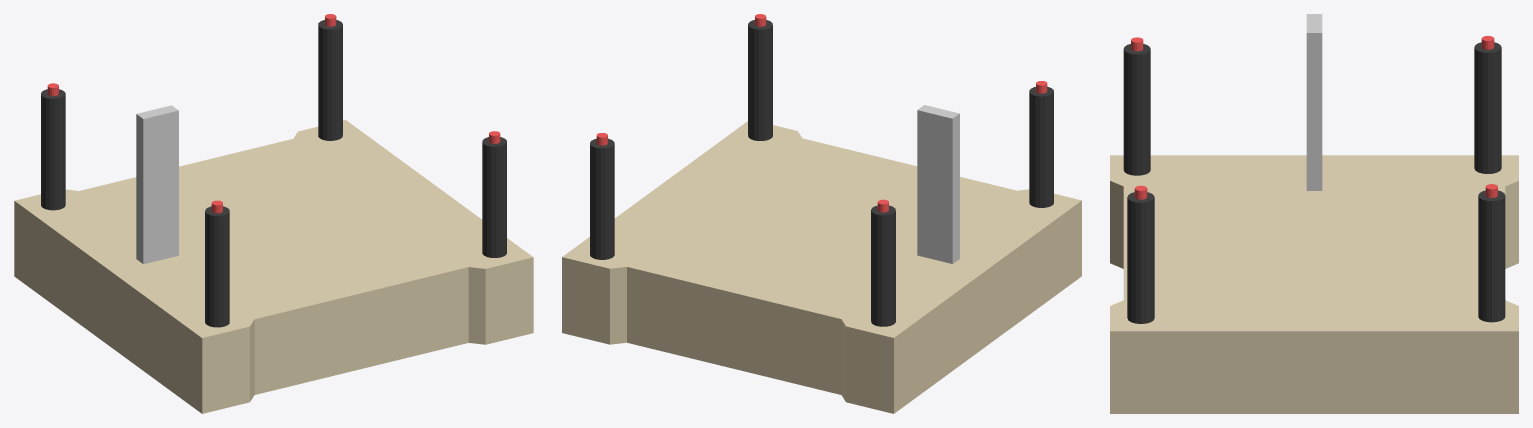
The model's file is simulateur.fbx.
3 renders of one model, left to right at view 1: azimuth 30°, elevation 25°; view 2: azimuth 150°, elevation 25°; view 3: azimuth 270°, elevation 25°, orthographic. The views are drawn at different scales.
Parts seen in each view (by area): view 1: Plane.001, Plane.002, Circle.006, Circle.002, Circle.004, Circle; view 2: Plane.001, Plane.002, Circle.004, Circle.002, Circle, Circle.006; view 3: Plane.001, Circle.006, Circle, Circle.004, Circle.002, Plane.002.
Part boxes in pixels (left/top/right/bottom): Plane.001: left=14, top=120, right=533, bottom=413; Plane.002: left=136, top=105, right=178, bottom=264; Circle.006: left=205, top=206, right=229, bottom=327; Circle.002: left=41, top=89, right=65, bottom=210; Circle.004: left=318, top=20, right=342, bottom=140; Circle: left=482, top=137, right=506, bottom=257; Plane.001: left=562, top=121, right=1081, bottom=413; Plane.002: left=917, top=105, right=959, bottom=263; Circle.004: left=590, top=138, right=614, bottom=259; Circle.002: left=871, top=205, right=895, bottom=326; Circle: left=748, top=20, right=772, bottom=140; Circle.006: left=1029, top=86, right=1053, bottom=207; Plane.001: left=1110, top=155, right=1518, bottom=413; Circle.006: left=1123, top=44, right=1150, bottom=175; Circle: left=1127, top=192, right=1154, bottom=323; Circle.004: left=1478, top=190, right=1505, bottom=322; Circle.002: left=1474, top=42, right=1501, bottom=173; Plane.002: left=1306, top=14, right=1322, bottom=190.
Bounding box in the file's own units: 108 × 68.5 × 105.
